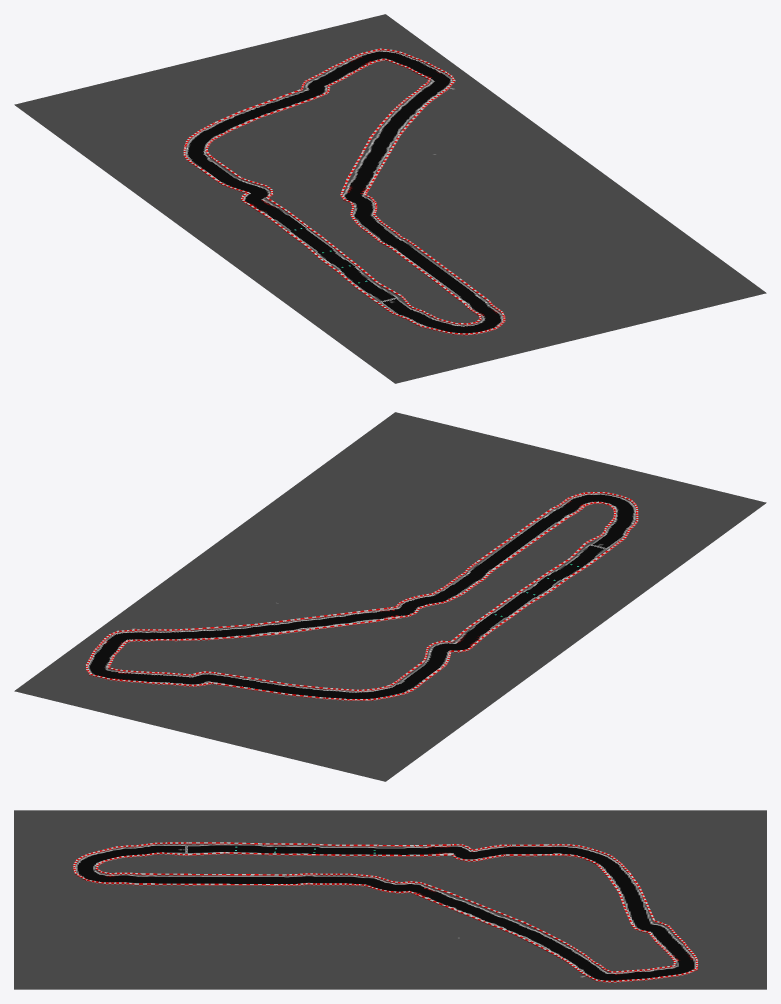
The model's file is track01_new.fbx.
3 renders of one model, top to bottom at view 1: azimuth 30°, elevation 25°; view 2: azimuth 150°, elevation 25°; view 3: azimuth 270°, elevation 25°, orthographic.
Visible parts, largest first — view 1: Plane; view 2: Plane; view 3: Plane.
Part boxes in pixels (x1,y1,x2,y2): Plane: [14, 14, 766, 383]; Plane: [14, 412, 766, 781]; Plane: [14, 810, 766, 989].
Size of what is drawn, in the model's own units: 10000 by 62.22 by 17770.
4 materials, 4 textured.
